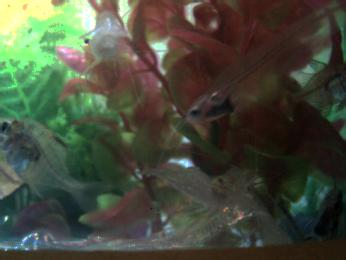X-ray fish: (1, 116, 104, 211), (282, 60, 346, 116)
glassfish: (182, 11, 332, 123)
siberian prawn: (145, 164, 254, 210), (80, 10, 138, 78)
